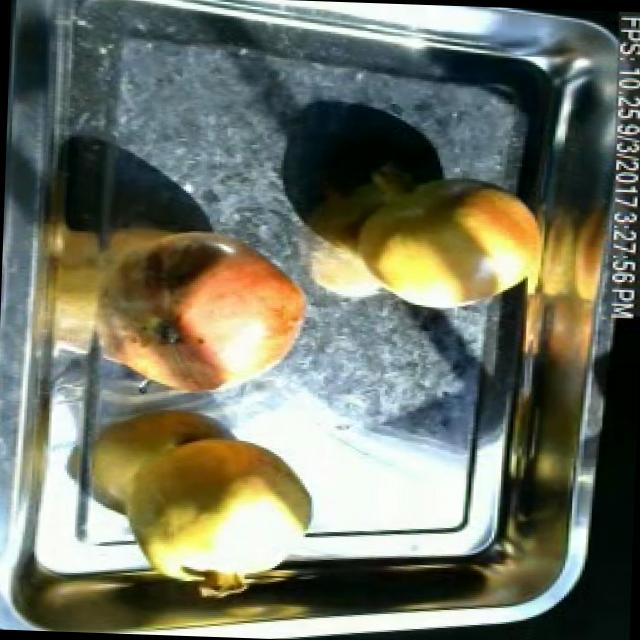fruit: (70, 214, 318, 408), (105, 420, 336, 596), (340, 163, 552, 318)
